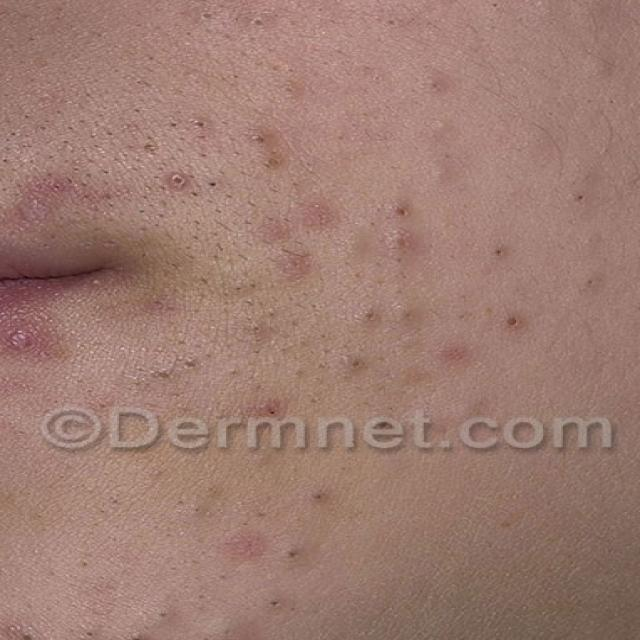Acne: (0, 52, 640, 401), (34, 443, 40, 446)
